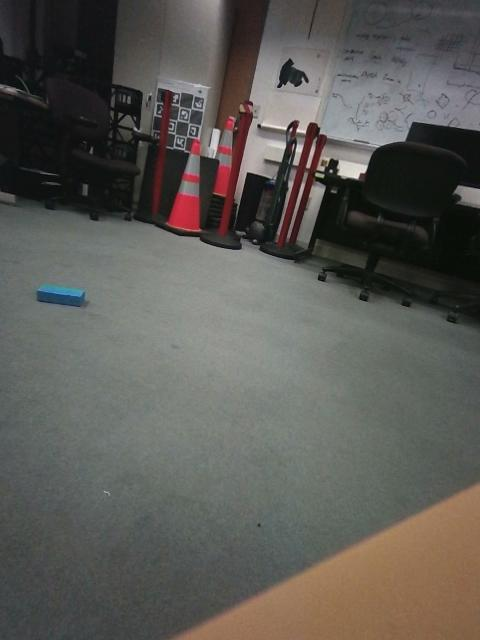block: (151, 340, 225, 401)
